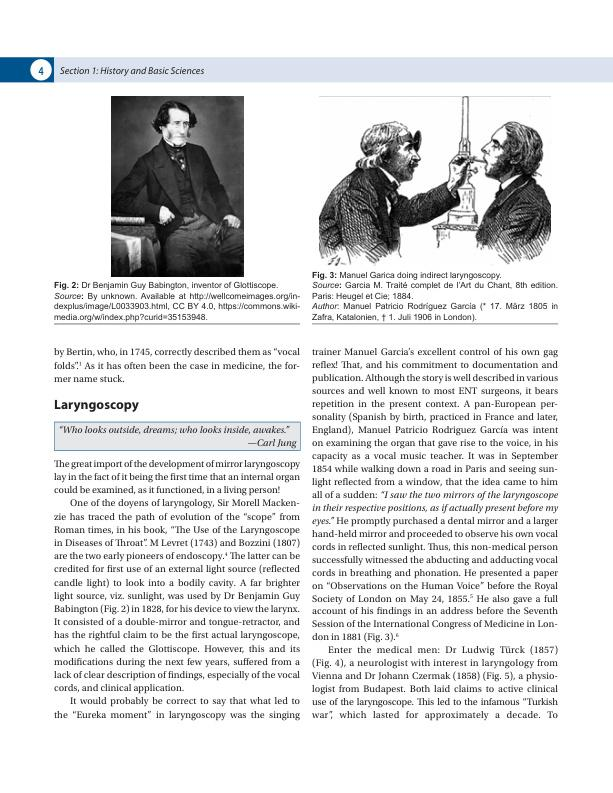caption: (311, 269, 560, 323), (53, 280, 301, 323)
header: (59, 66, 205, 77)
image: (311, 95, 561, 267), (111, 95, 244, 277)
section-heading: (53, 398, 139, 413)
text: (311, 347, 560, 721), (52, 458, 301, 722), (53, 346, 302, 384), (57, 424, 298, 450)
